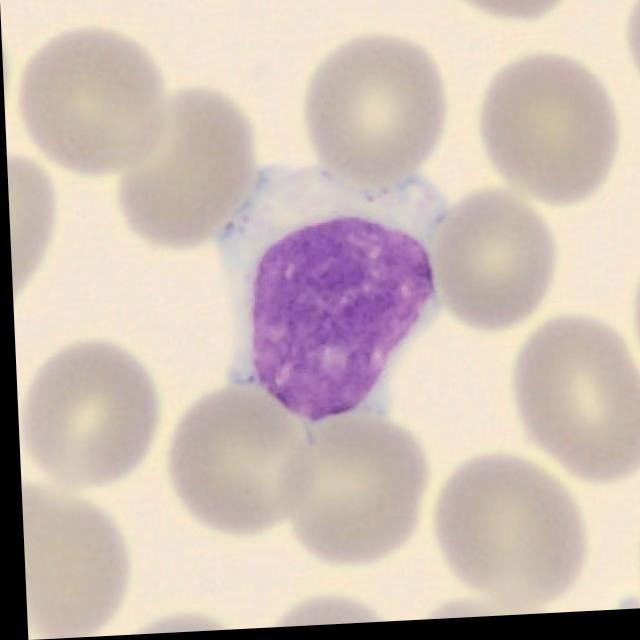Linfocito atipico: (215, 171, 448, 433)
